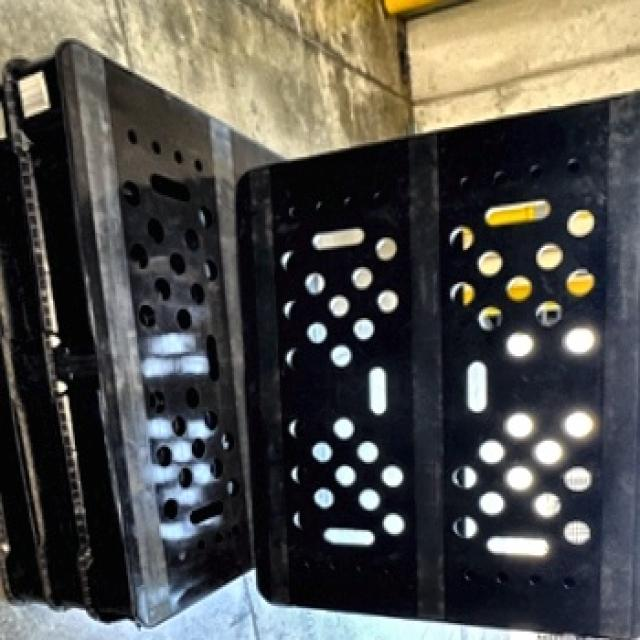igps: (229, 74, 640, 640), (1, 29, 292, 640)
